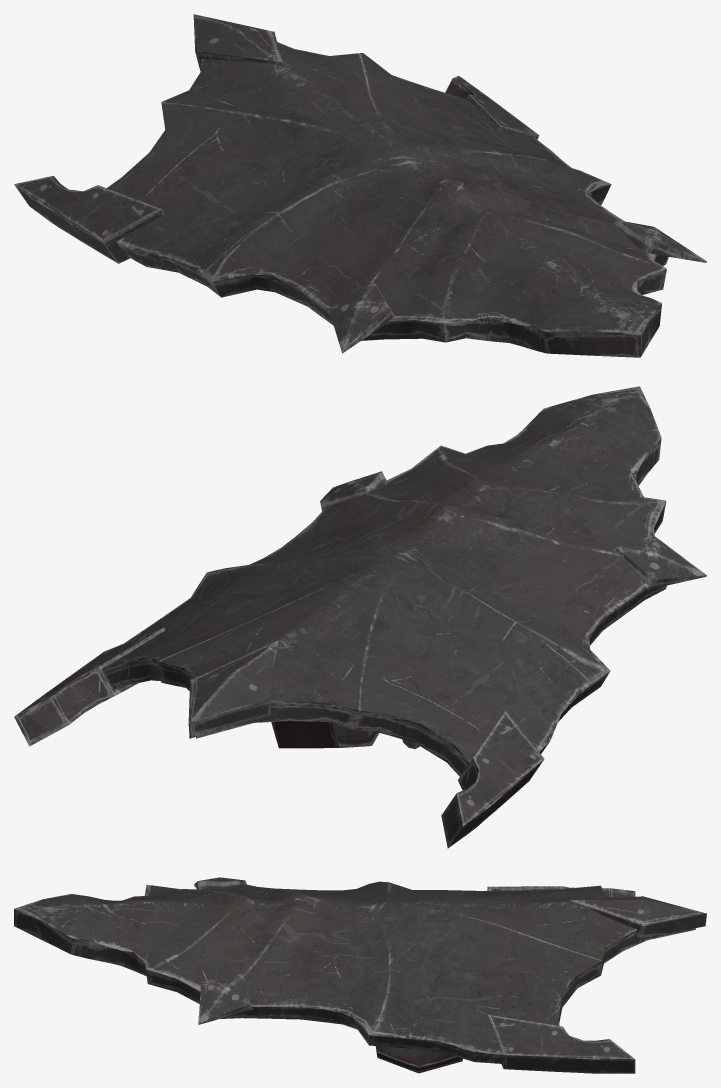
The model's file is sm_mordor_shield_mid_a.fbx.
3 renders of one model, top to bottom at view 1: azimuth 30°, elevation 25°; view 2: azimuth 150°, elevation 25°; view 3: azimuth 270°, elevation 25°, orthographic. The views are drawn at different scales.
Parts seen in each view (by area): view 1: sm_mordor_shield_mid_a.0; view 2: sm_mordor_shield_mid_a.0, sm_mordor_shield_mid_a.1; view 3: sm_mordor_shield_mid_a.0, sm_mordor_shield_mid_a.1.
Boxes of the visible parts, bbox=[...] form: sm_mordor_shield_mid_a.0: bbox=[14, 14, 706, 357]; sm_mordor_shield_mid_a.0: bbox=[14, 386, 706, 848]; sm_mordor_shield_mid_a.1: bbox=[271, 721, 419, 748]; sm_mordor_shield_mid_a.0: bbox=[14, 877, 706, 1073]; sm_mordor_shield_mid_a.1: bbox=[375, 1046, 462, 1073].
Size of the model in its own units: 0.7681 by 1.34 by 0.3263.
2 materials, 2 textured.
